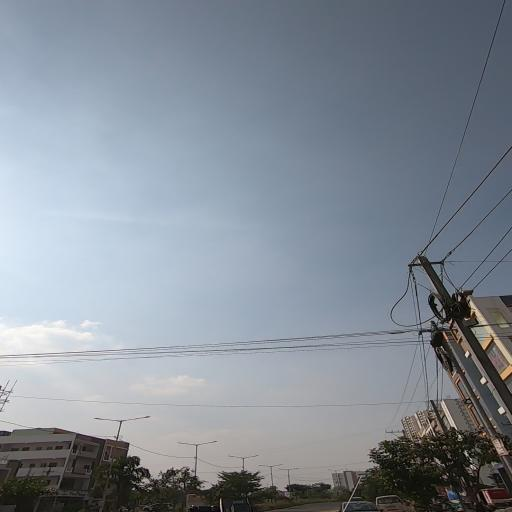Street_light: (122, 414, 153, 426), (90, 415, 120, 423), (174, 440, 196, 448), (224, 453, 244, 461), (199, 440, 217, 447), (246, 454, 260, 460)
